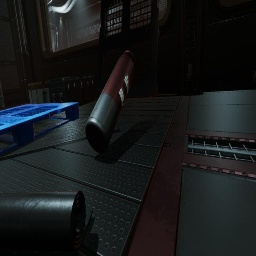NitrogenTank ,: (85, 50, 136, 154)
